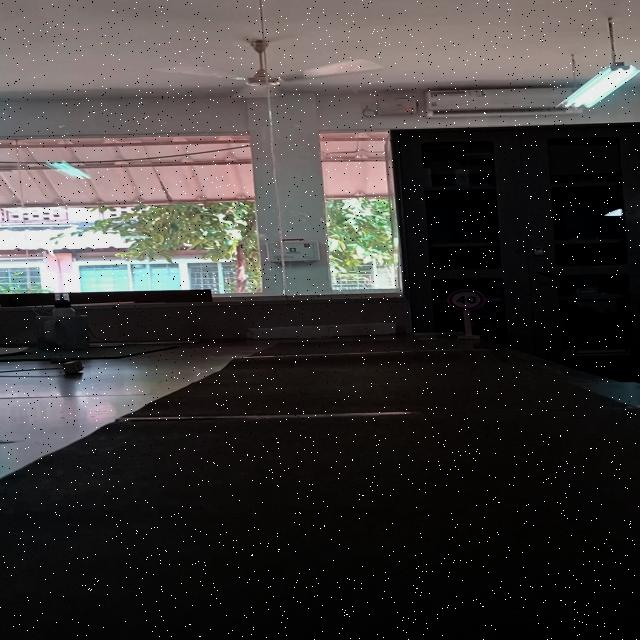Speed40: (446, 288, 486, 312)
